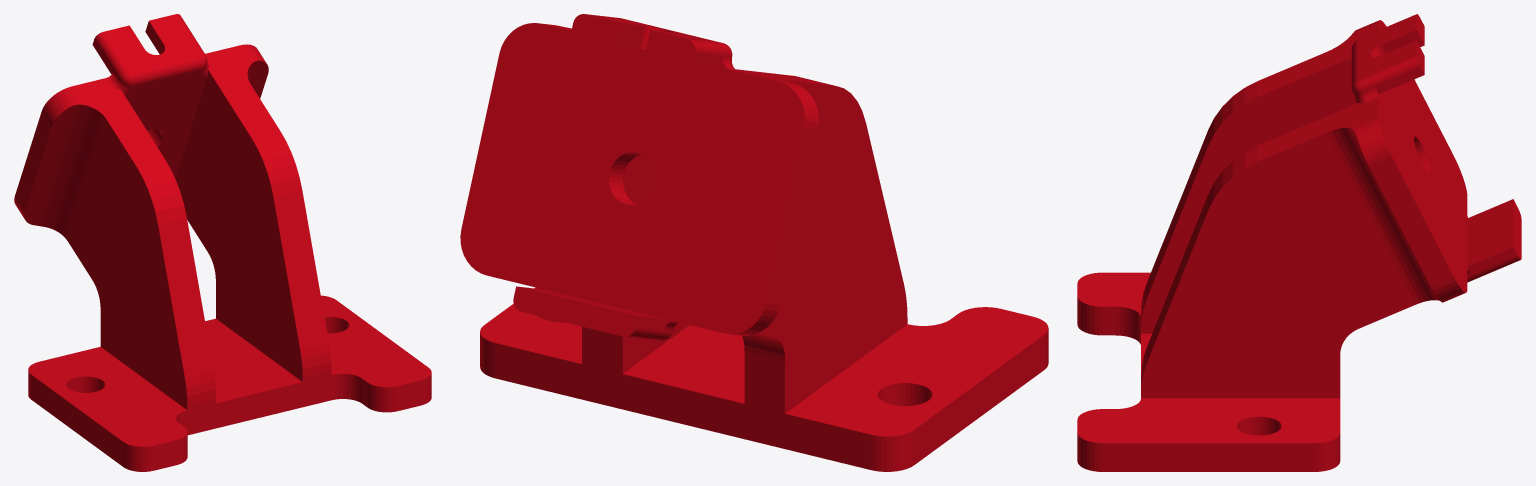
Rendered from zed_holder_65.dae.
3 renders of one model, left to right at view 1: azimuth 30°, elevation 25°; view 2: azimuth 150°, elevation 25°; view 3: azimuth 270°, elevation 25°, orthographic. The views are drawn at different scales.
Parts seen in each view (by area): view 1: ZED_Holder_65; view 2: ZED_Holder_65; view 3: ZED_Holder_65.
Part boxes in pixels (x1=…): ZED_Holder_65: x1=14, y1=14, x2=431, y2=471; ZED_Holder_65: x1=460, y1=14, x2=1048, y2=471; ZED_Holder_65: x1=1077, y1=14, x2=1521, y2=471.
Bounding box in the file's own units: 0.0635 × 0.0698 × 0.061.
